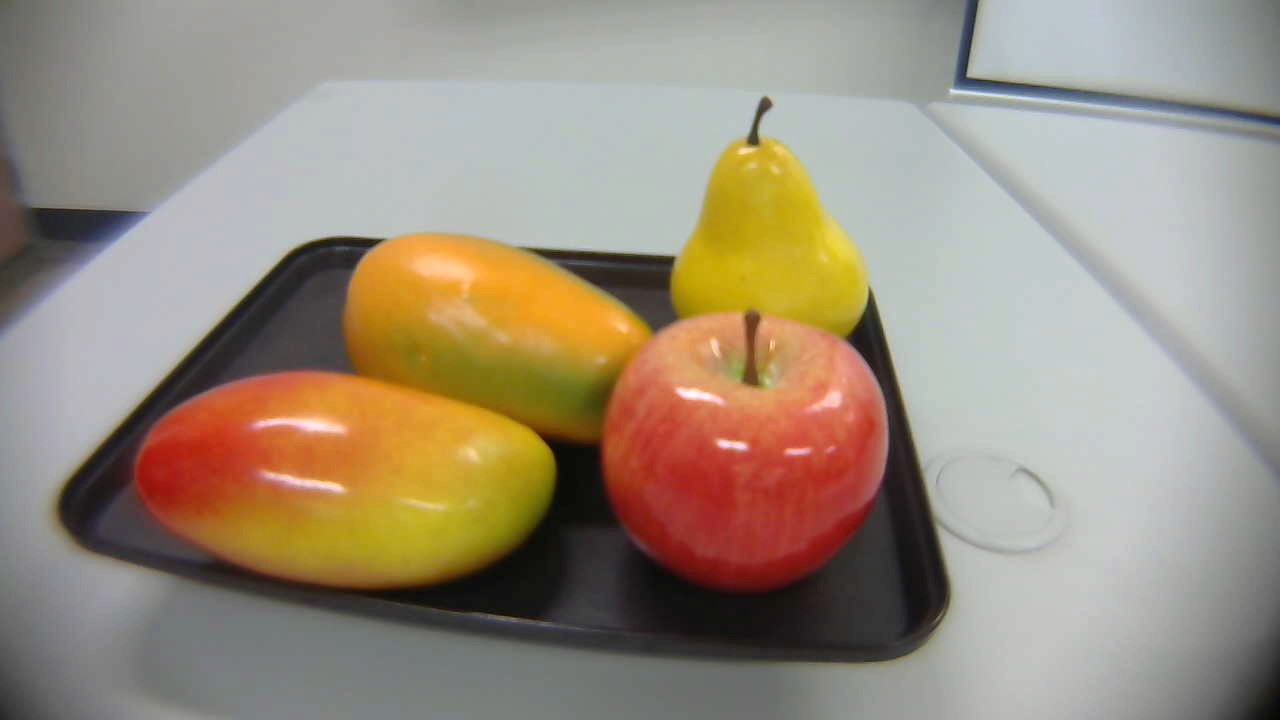papya: (332, 224, 670, 469)
red apple: (598, 309, 895, 594)
red mango: (128, 354, 558, 593)
yellow pear: (670, 89, 885, 359)
